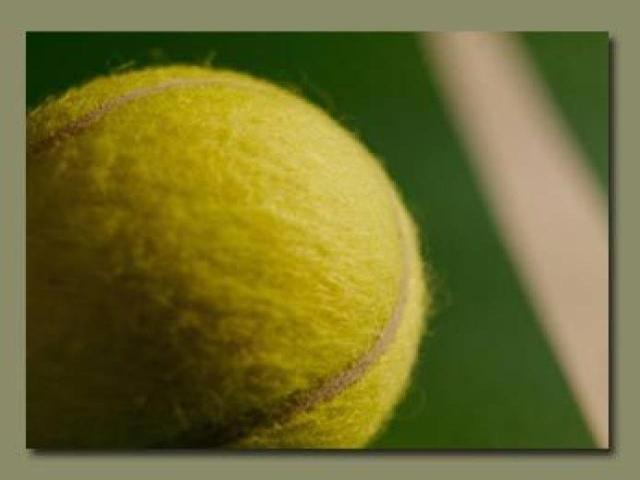tennis-ball: (24, 61, 431, 450)
